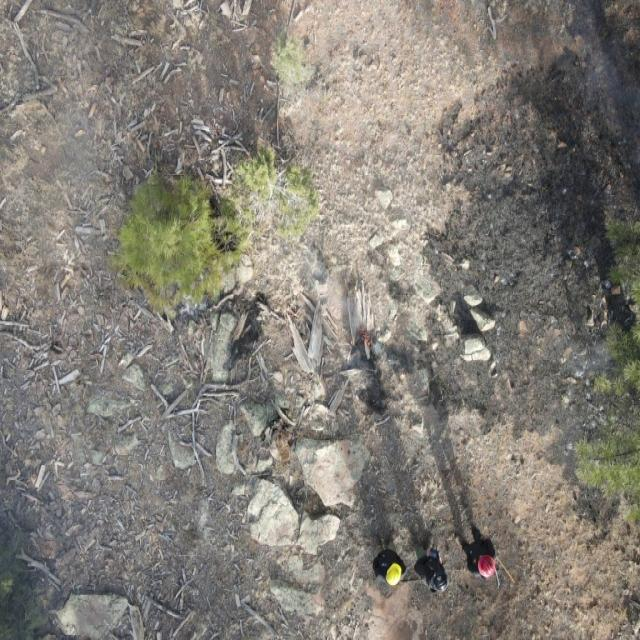fire: (353, 324, 374, 350)
smoke: (0, 0, 150, 308), (502, 314, 630, 454), (558, 0, 640, 165)
